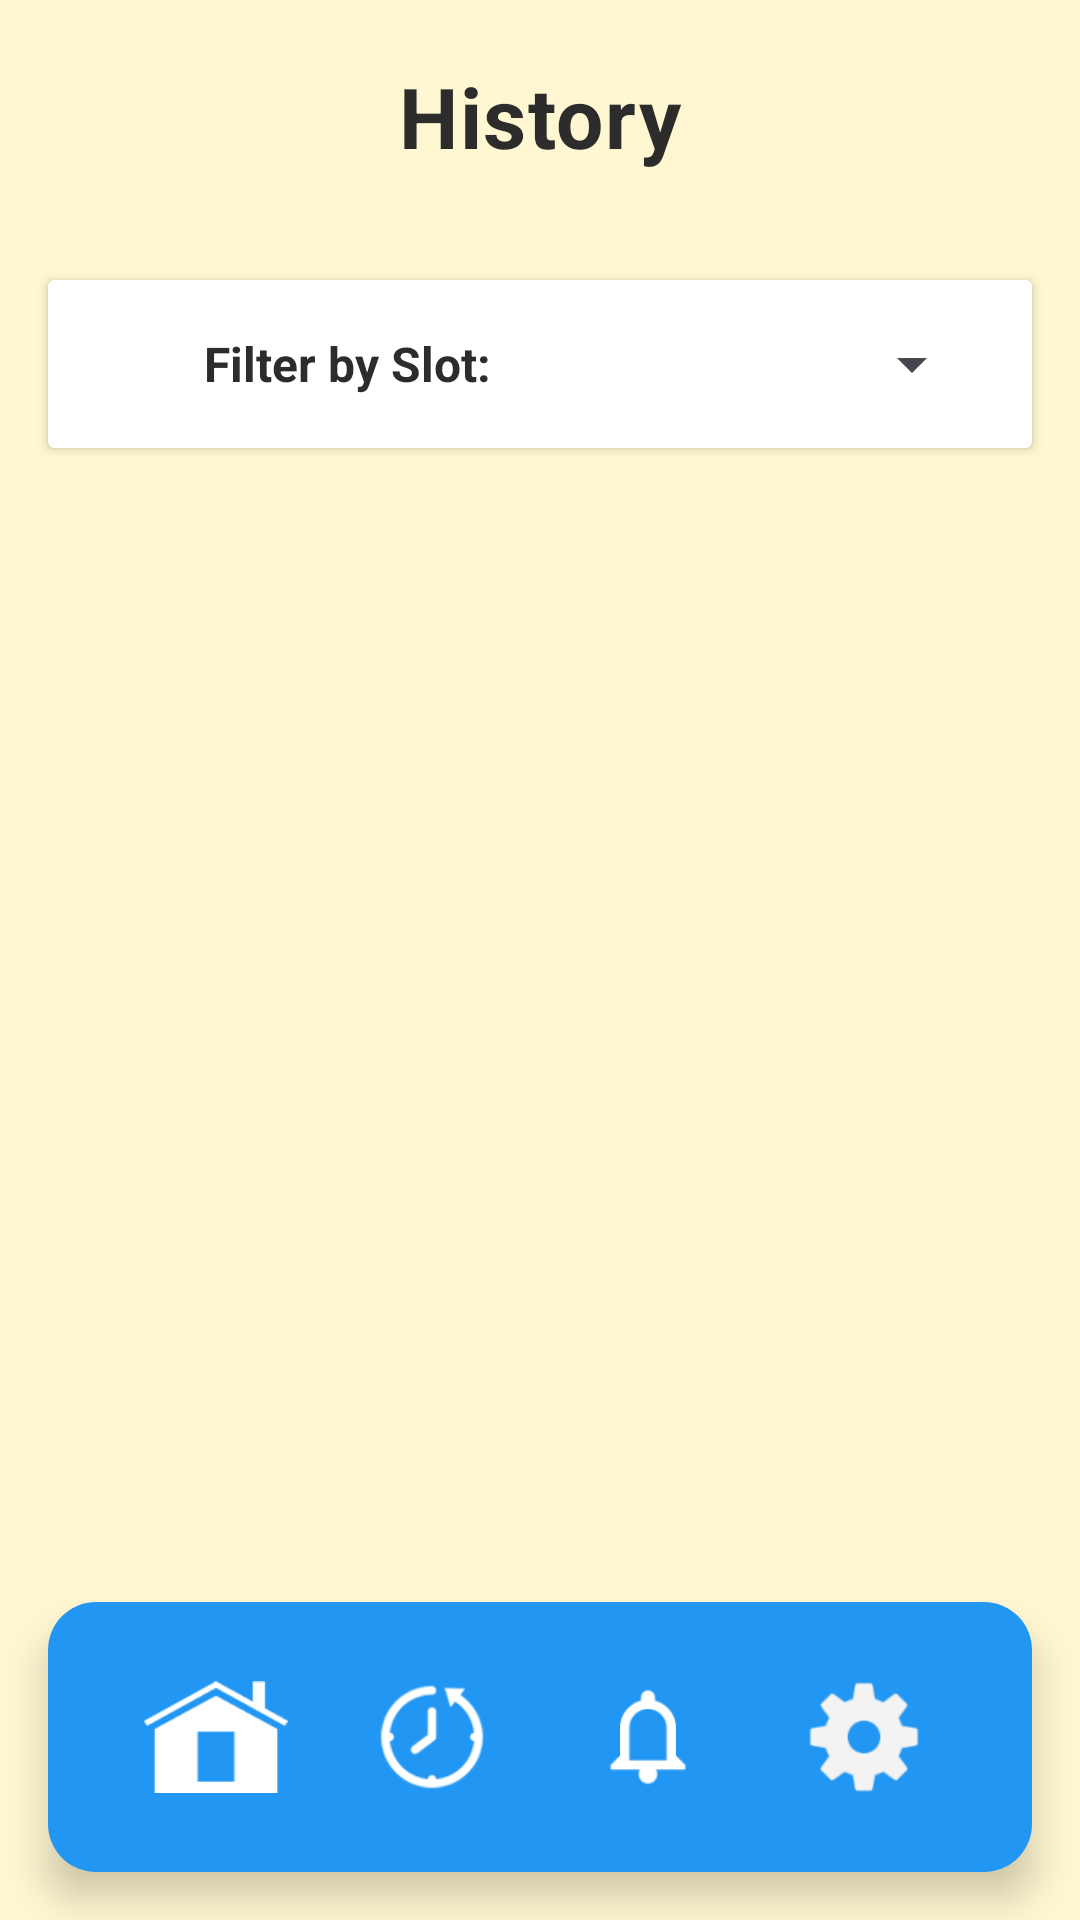

Where to tap for icons on this 1080w x 1920h app screen, as point (x, y):
History: point (432, 1737)
Home: point (216, 1737)
Notifications: point (648, 1737)
Settings: point (864, 1737)
